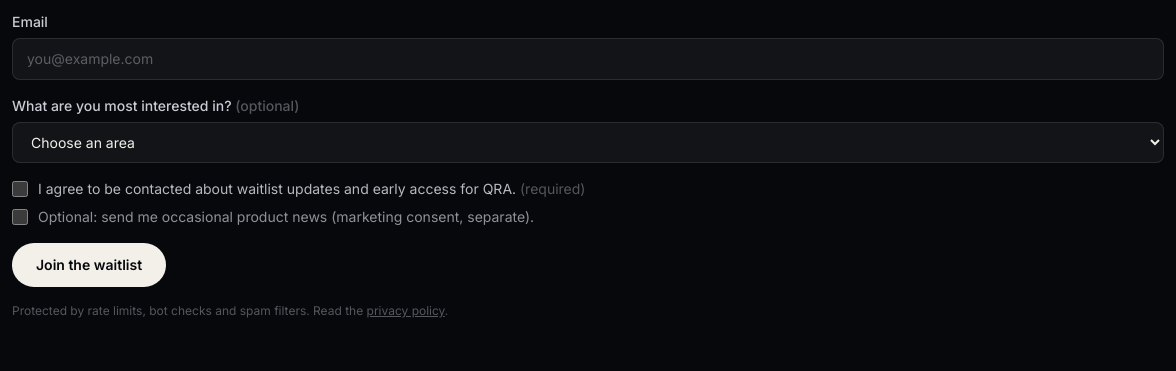
it: WaitlistForm › handles network failure gracefully
The image size is (1176, 371).
Type "ada@example.com" into the field with test id "waitlist-email" at point(588, 59), box [12, 38, 1164, 80]
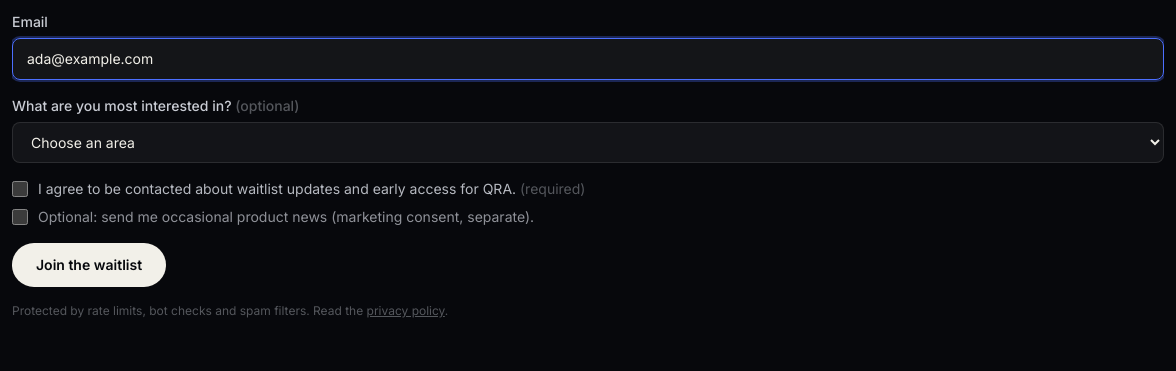
Click the checkbox with test id "waitlist-consent" at point(20, 189), box [12, 181, 28, 197]
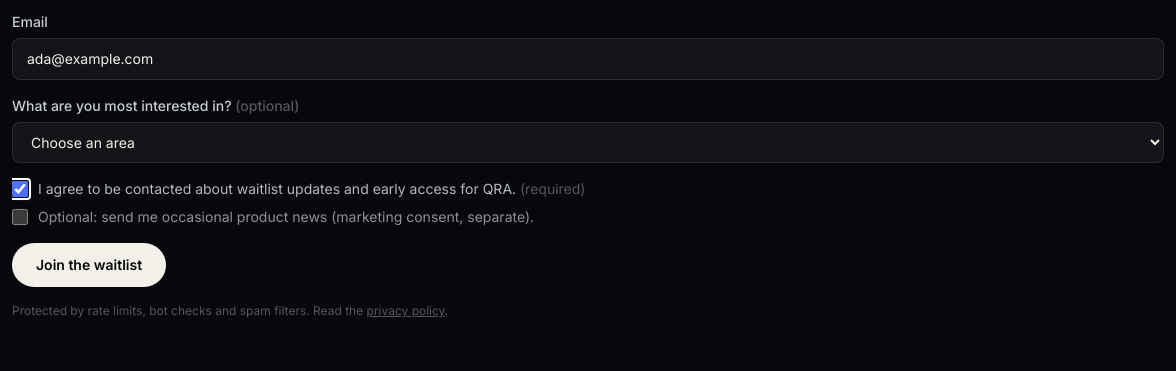
Click the button with test id "waitlist-submit" at point(89, 265), box [12, 243, 166, 287]
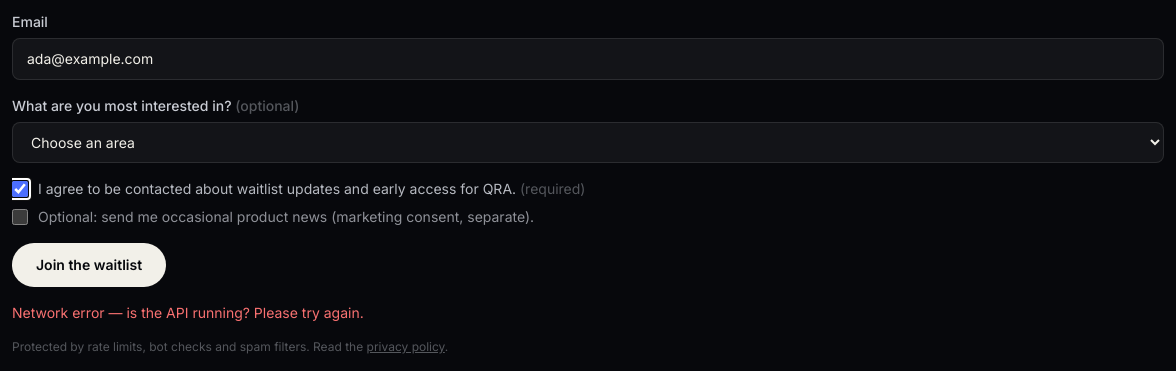
Now the message with test id "waitlist-error" shows "Network", box [12, 304, 364, 321]
